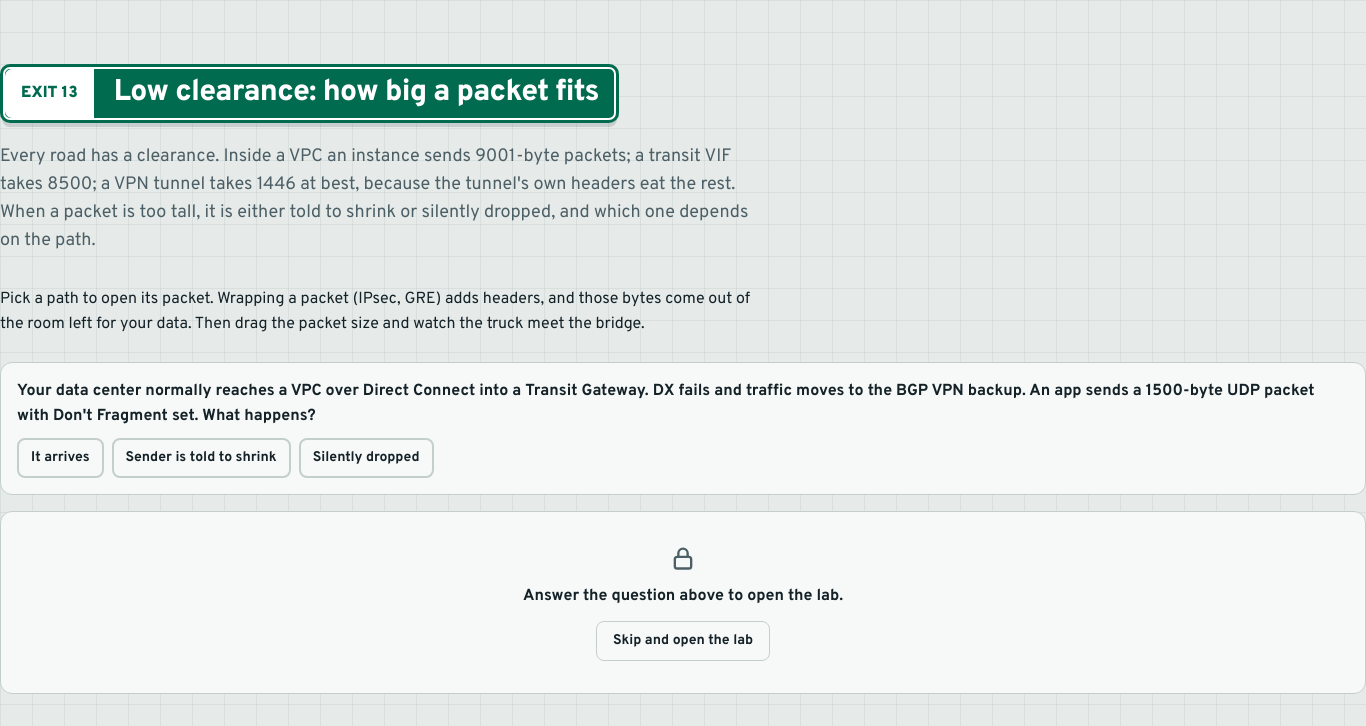
Test: MtuSection › opens a path's headers and reacts to the packet size
Expected: the heading "Low clearance: how big a packet fits" is shown, [94,64,619,122]
Expected: the radio button labelled "Internet (internet gateway)" is not shown
Click the button "Silently dropped": (366, 458) [299,438,434,478]
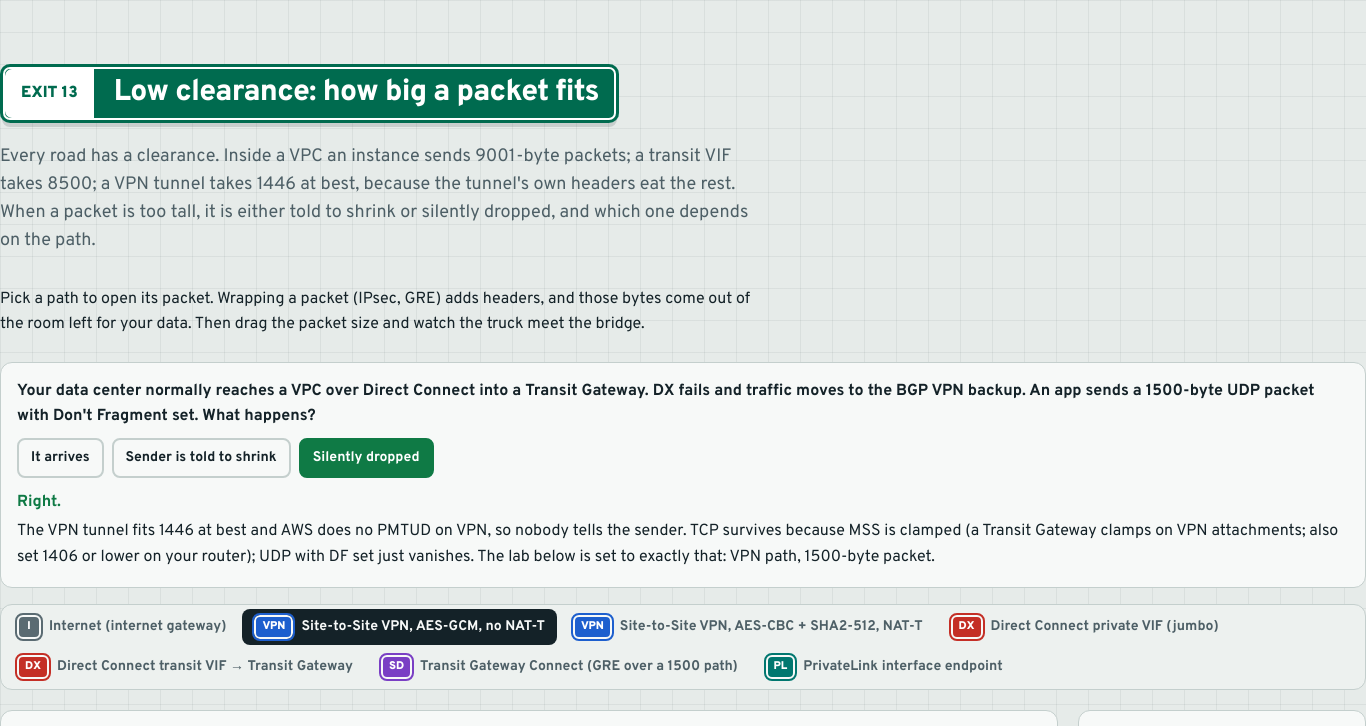
Click the radio button labelled "I Internet (internet gateway)": (122, 627) [5,609,238,645]
(page scrolled)
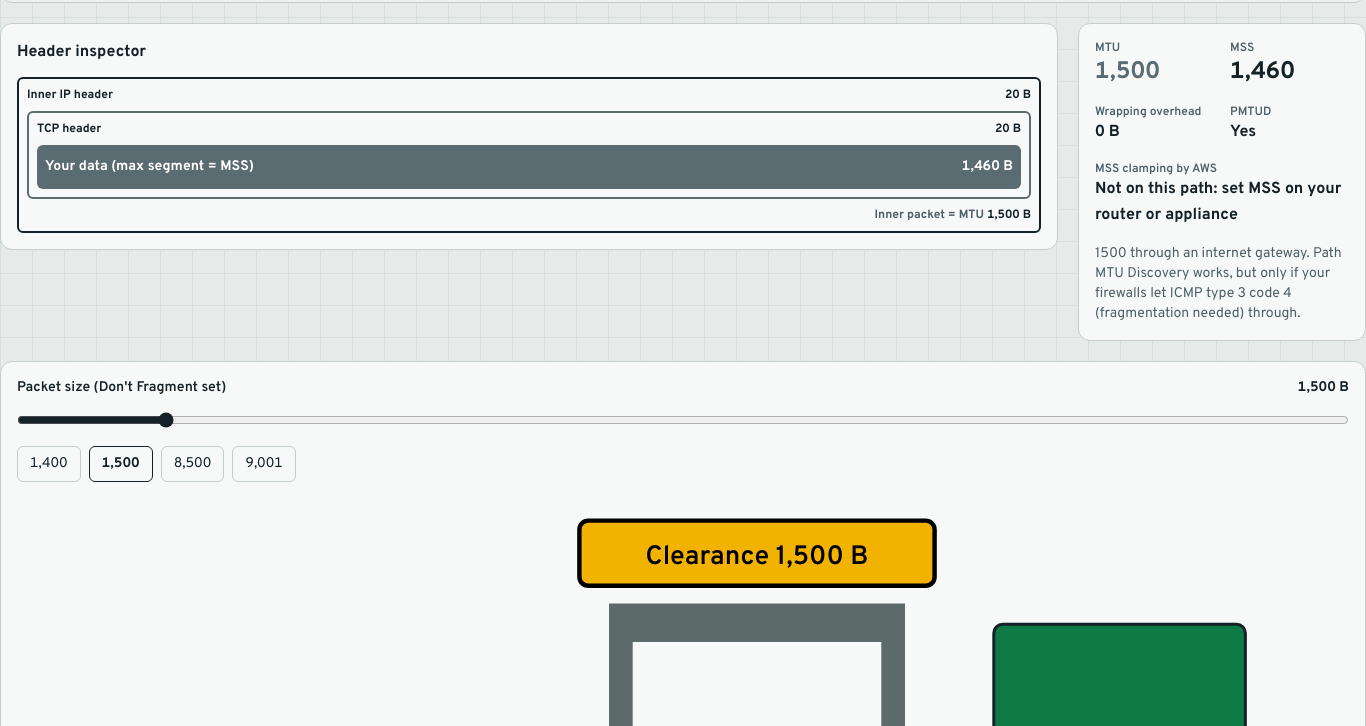
Set the slider labelled "Packet size (Don't Fragment set)" to "1600": (181, 420) [17,402,1349,438]
(page scrolled)
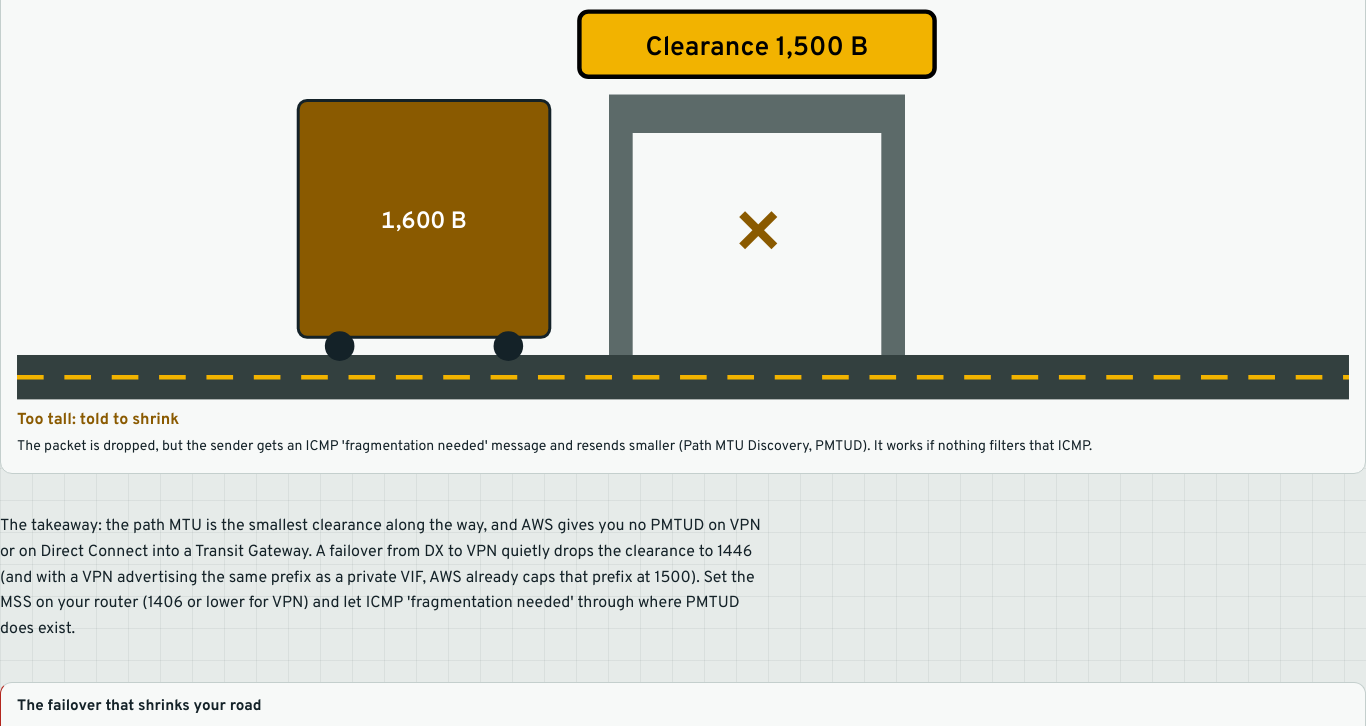
Expected: the text "Too tall: told to shrink" is shown, [17,410,179,430]
